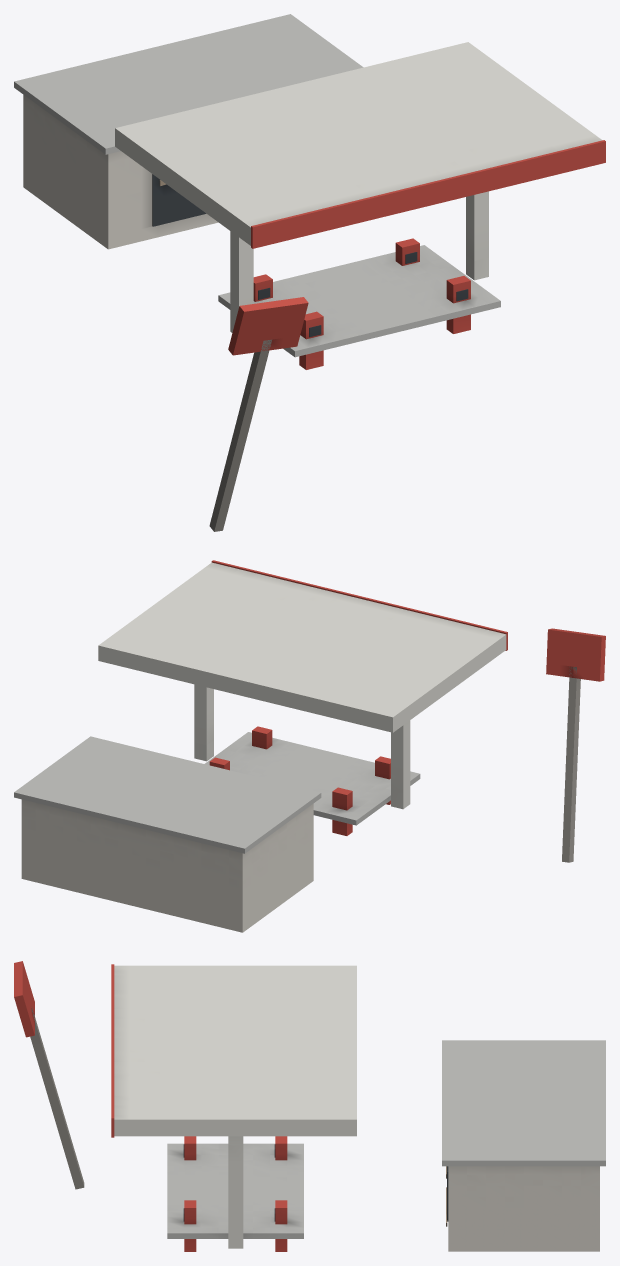
The model's file is posto.glb.
3 renders of one model, top to bottom at view 1: azimuth 30°, elevation 25°; view 2: azimuth 150°, elevation 25°; view 3: azimuth 270°, elevation 25°, orthographic. The views are drawn at different scales.
Visible parts, largest first — view 1: posto_cobertura, posto_loja, posto_ilha, posto_luminoso, posto_pilar4, posto_pilar-4, posto_bomba2-1, posto_bomba-2-1; view 2: posto_loja, posto_cobertura, posto_ilha, posto_luminoso, posto_pilar-4, posto_pilar4, posto_bomba-21; view 3: posto_cobertura, posto_loja, posto_ilha, posto_luminoso, posto_pilar4, posto_bomba2-1, posto_bomba21.
Part boxes in pixels (box(x1,y1,x2,y2)): posto_cobertura: box(115, 42, 605, 248); posto_loja: box(14, 14, 363, 249); posto_ilha: box(218, 245, 500, 357); posto_luminoso: box(209, 297, 308, 531); posto_pilar4: box(466, 191, 488, 280); posto_pilar-4: box(230, 231, 253, 332); posto_bomba2-1: box(446, 276, 470, 333); posto_bomba-2-1: box(299, 311, 323, 369); posto_loja: box(14, 736, 321, 932); posto_cobertura: box(98, 560, 507, 732); posto_ilha: box(205, 732, 420, 825); posto_luminoso: box(546, 628, 605, 862); posto_pilar-4: box(391, 720, 410, 809); posto_pilar4: box(194, 684, 213, 761); posto_bomba-21: box(332, 787, 352, 835); posto_cobertura: box(111, 964, 356, 1137); posto_loja: box(442, 1040, 605, 1251); posto_ilha: box(167, 1143, 303, 1238); posto_luminoso: box(14, 961, 84, 1189); posto_pilar4: box(228, 1136, 243, 1248); posto_bomba2-1: box(183, 1200, 196, 1251); posto_bomba21: box(274, 1200, 287, 1251).
Size of what is drawn, in the model's own units: 14.3 by 8.98 by 19.51.
